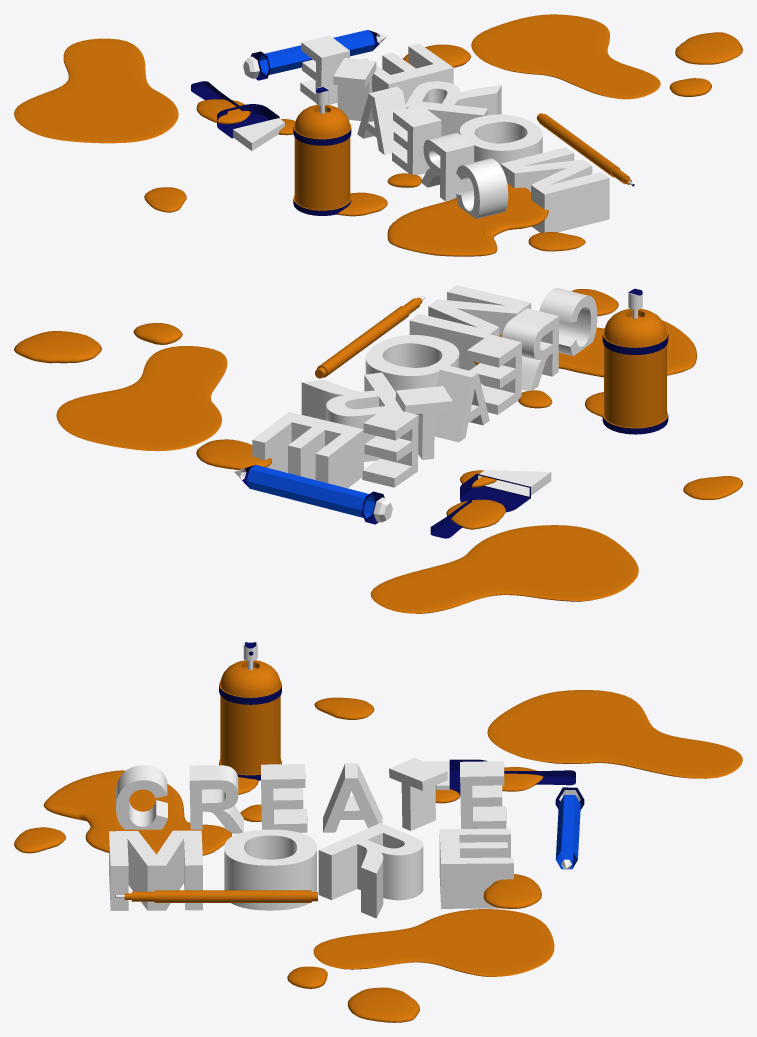
Rendered from create_more.glb.
3 views of the same model, one above another, from view 1: azimuth 30°, elevation 25°; view 2: azimuth 150°, elevation 25°; view 3: azimuth 270°, elevation 25° (orthographic). The views are drawn at different scales.
Visible parts, largest first — view 1: Plane.005, Plane.004, Plane.003, Circle, Text.004, Text.003, Text.002, Plane.001, Text, Text.008, Text.009, Text.007 (+7 smaller); view 2: Plane.005, Plane.004, Circle, Text, Text.004, Plane.001, Cylinder, Plane.003, Text.003, Text.002, Text.001, Text.007 (+7 smaller); view 3: Plane.005, Plane.004, Plane.003, Text.002, Circle, Text.004, Text.003, Text, Plane.001, Text.001, Text.007, Text.008 (+7 smaller).
Part boxes in pixels (left/top/right/bottom): Plane.005: left=14, top=38, right=178, bottom=143; Plane.004: left=471, top=14, right=660, bottom=99; Plane.003: left=337, top=173, right=585, bottom=256; Circle: left=293, top=87, right=351, bottom=215; Text.004: left=500, top=147, right=609, bottom=232; Text.003: left=460, top=114, right=542, bottom=165; Text.002: left=405, top=81, right=501, bottom=136; Plane.001: left=403, top=32, right=742, bottom=96; Text: left=359, top=43, right=453, bottom=104; Text.008: left=421, top=133, right=474, bottom=201; Text.009: left=456, top=158, right=508, bottom=218; Text.007: left=392, top=105, right=441, bottom=175; Plane.005: left=370, top=525, right=638, bottom=613; Plane.004: left=56, top=346, right=227, bottom=451; Circle: left=602, top=288, right=668, bottom=434; Text: left=252, top=412, right=363, bottom=488; Text.004: left=409, top=285, right=531, bottom=370; Plane.001: left=14, top=323, right=271, bottom=469; Cylinder: left=234, top=464, right=392, bottom=524; Plane.003: left=473, top=289, right=696, bottom=416; Text.003: left=365, top=335, right=459, bottom=391; Text.002: left=301, top=372, right=402, bottom=461; Text.001: left=362, top=407, right=418, bottom=487; Text.007: left=467, top=334, right=521, bottom=414; Plane.005: left=487, top=690, right=742, bottom=778; Plane.004: left=313, top=909, right=554, bottom=976; Plane.003: left=14, top=770, right=261, bottom=855; Text.002: left=318, top=823, right=423, bottom=918; Circle: left=219, top=642, right=281, bottom=780; Text.004: left=109, top=830, right=202, bottom=910; Text.003: left=224, top=829, right=316, bottom=910; Text: left=439, top=828, right=513, bottom=908; Plane.001: left=287, top=874, right=541, bottom=1022; Text.001: left=460, top=761, right=506, bottom=828; Text.007: left=261, top=764, right=307, bottom=832; Text.008: left=189, top=765, right=243, bottom=833.
Size of what is drawn, in the model's own units: 6.61 by 1.38 by 6.14.
